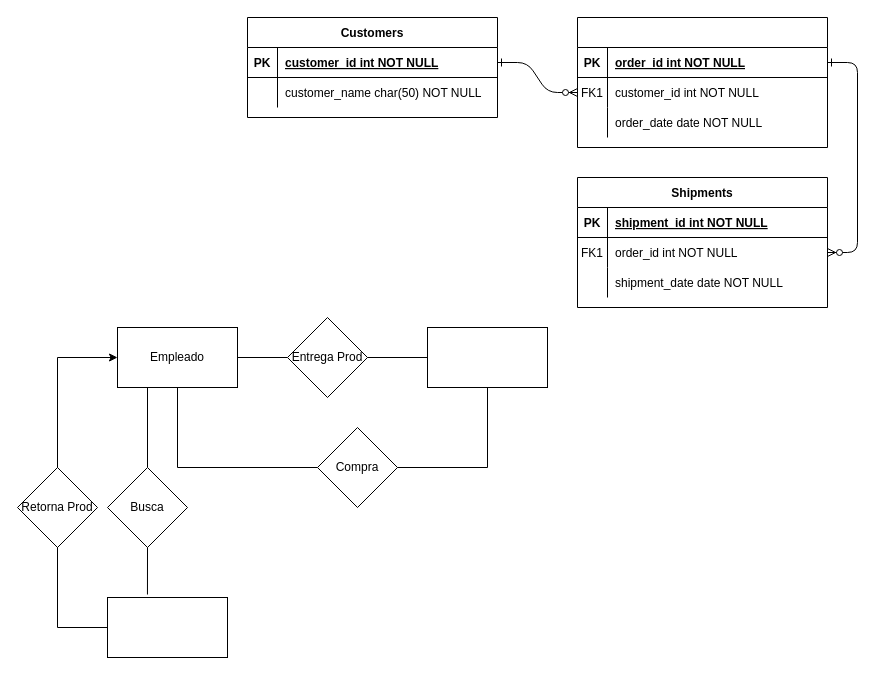
The diagram is 884 pixels wide and 675 high, and some of its shapes have lost their labels. Each missing label, with the box of its shape:
Cliente: (426, 326, 548, 388)
Orders: (576, 16, 828, 148)
Productos: (106, 596, 228, 658)
